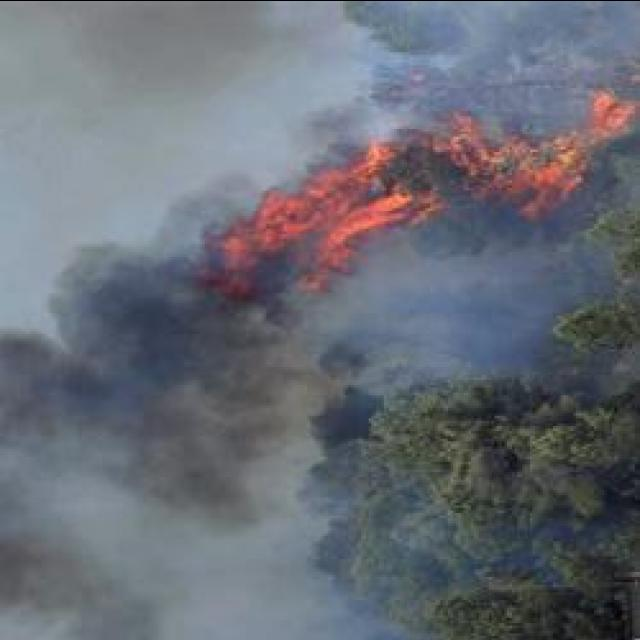fire: (324, 192, 396, 248), (259, 191, 311, 244), (516, 162, 578, 195), (358, 142, 392, 178), (597, 100, 630, 128)
smoke: (110, 352, 256, 497), (81, 0, 277, 92), (182, 363, 298, 517), (56, 236, 180, 378), (0, 330, 105, 477), (1, 532, 143, 636), (452, 1, 640, 79), (154, 256, 302, 340), (407, 288, 536, 360), (190, 586, 342, 637), (166, 168, 246, 232), (534, 85, 576, 128)
